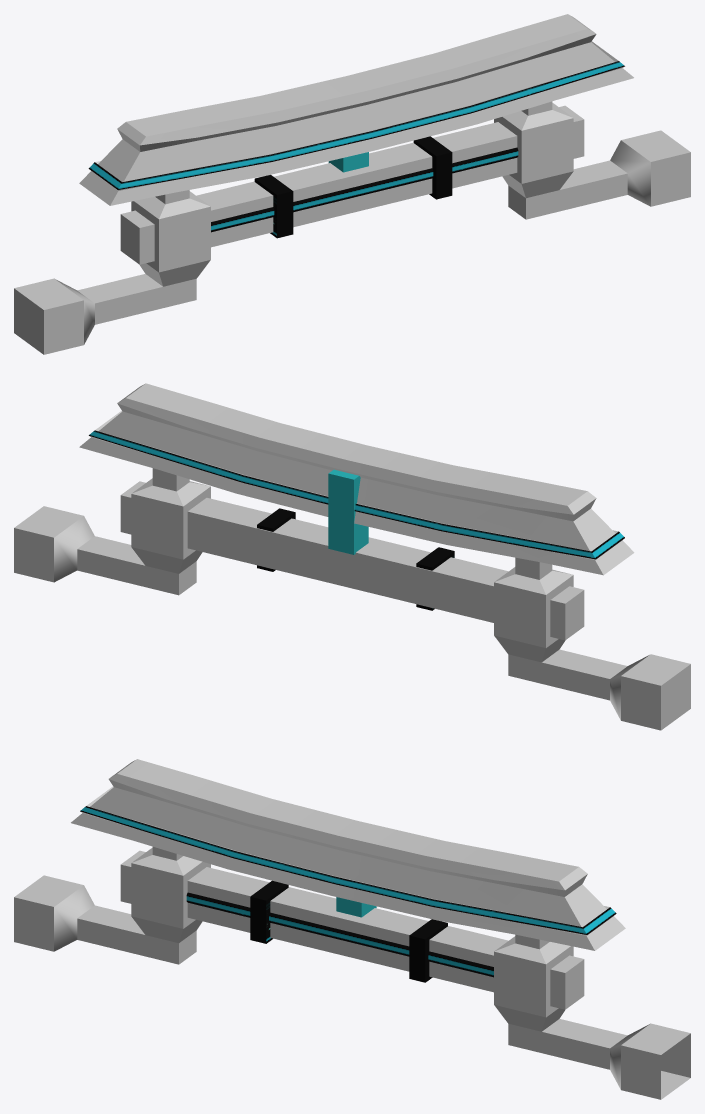
The model's file is Japanese_Arch_Art.fbx.
3 renders of one model, top to bottom at view 1: azimuth 30°, elevation 25°; view 2: azimuth 150°, elevation 25°; view 3: azimuth 330°, elevation 25°, orthographic.
Visible parts, largest first — view 1: Japanese_Arch; view 2: Japanese_Arch; view 3: Japanese_Arch.
Part boxes in pixels (x1=…): Japanese_Arch: x1=14, y1=14, x2=690, y2=354; Japanese_Arch: x1=14, y1=383, x2=690, y2=730; Japanese_Arch: x1=14, y1=759, x2=690, y2=1099.
Bounding box in the file's own units: 8.18 × 2.33 × 0.7615.
